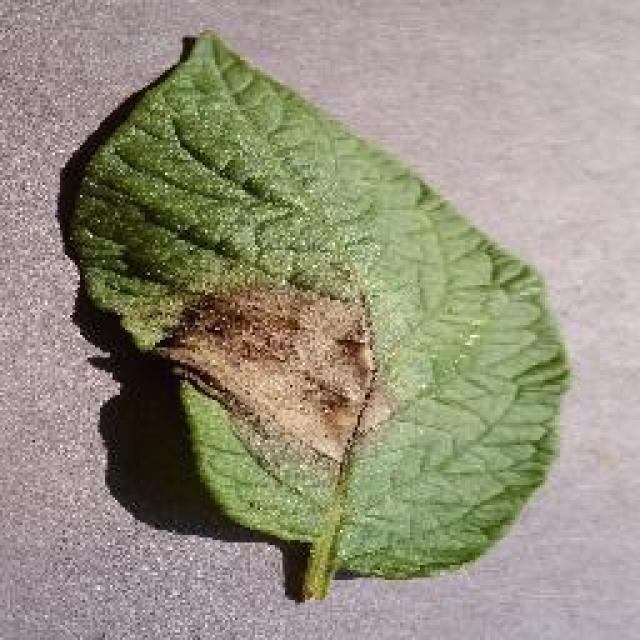Potato: (55, 28, 573, 600)
